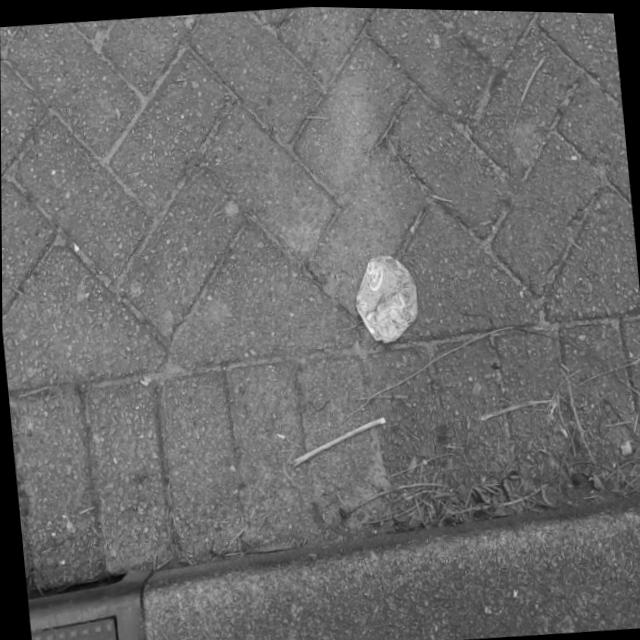Can-Metal: (349, 248, 421, 346)
